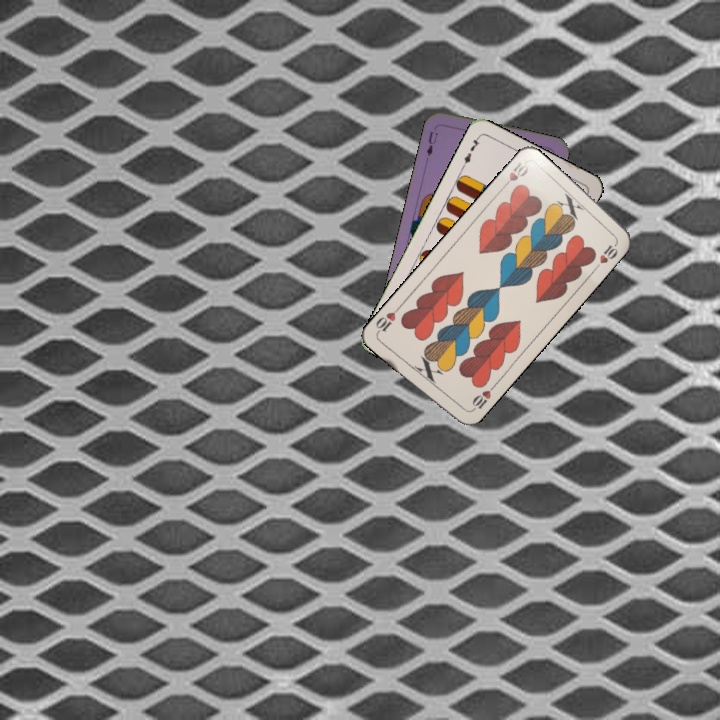E7: (458, 132, 482, 170)
EU: (422, 127, 441, 159)
H10: (498, 157, 531, 192), (466, 382, 497, 415)
